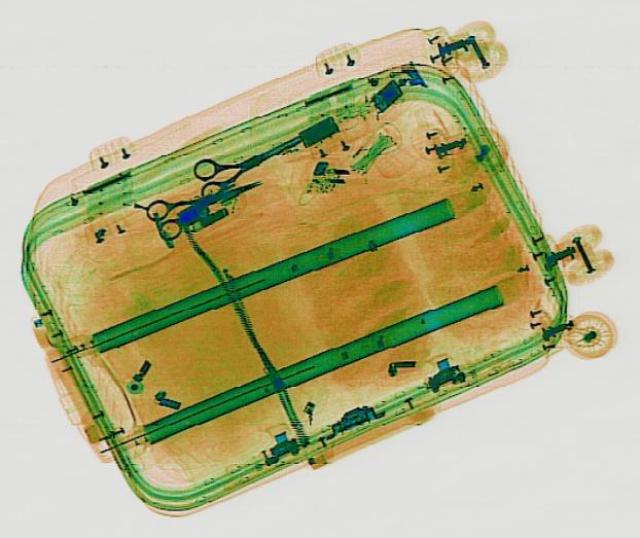Scissors: (175, 117, 312, 206), (138, 162, 268, 241)
